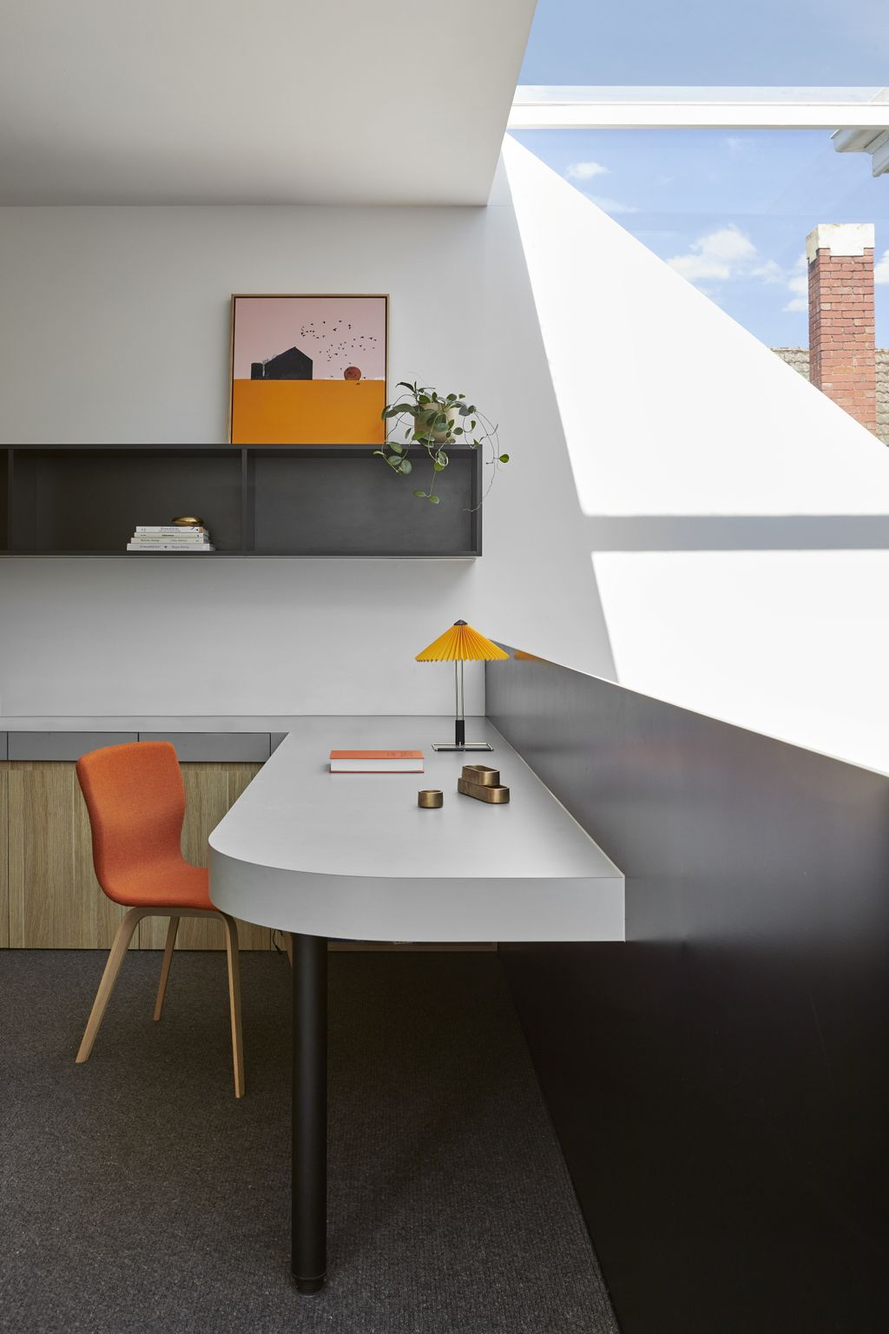not a gesture sign: (487, 664, 888, 1333), (630, 149, 766, 254)
